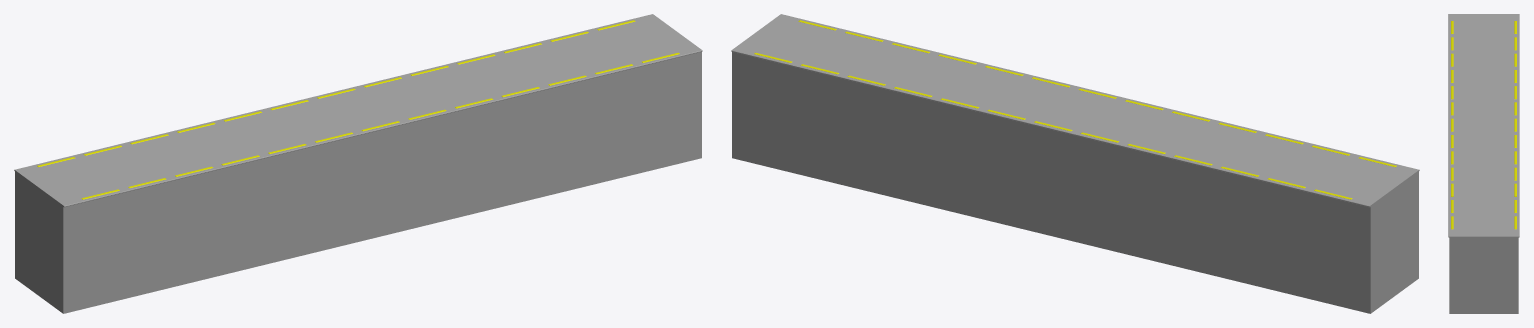
Rendered from SM_StationPlatform.fbx.
3 renders of one model, left to right at view 1: azimuth 30°, elevation 25°; view 2: azimuth 150°, elevation 25°; view 3: azimuth 270°, elevation 25°, orthographic. The views are drawn at different scales.
Visible parts, largest first — view 1: Platform, PlatformCurb26; view 2: Platform, PlatformCurb26; view 3: Platform, PlatformCurb26.
Part boxes in pixels (x1,y1,x2,y2): Platform: [14, 14, 702, 313]; PlatformCurb26: [37, 20, 679, 199]; Platform: [731, 14, 1419, 313]; PlatformCurb26: [754, 20, 1396, 199]; Platform: [1448, 14, 1519, 313]; PlatformCurb26: [1451, 21, 1516, 229].
Size of the model in its own units: 5882 by 957 by 797.
